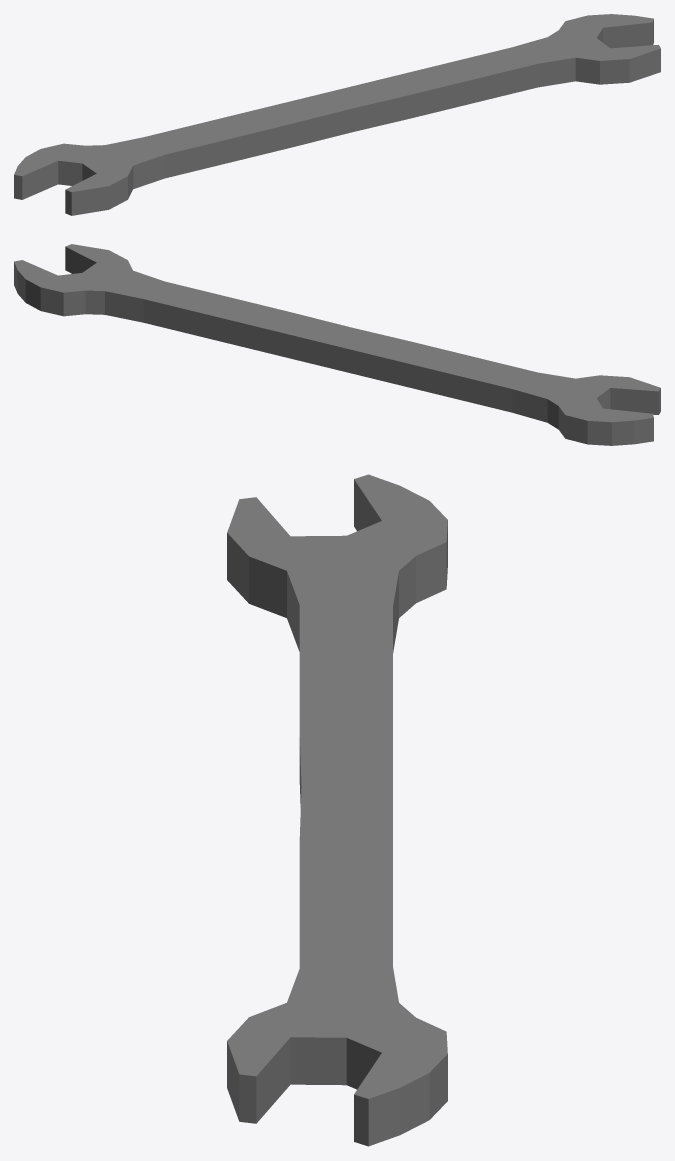
The model's file is Wrench 1.fbx.
The picture shows the model from 3 angles, top to bottom: view 1: azimuth 30°, elevation 25°; view 2: azimuth 150°, elevation 25°; view 3: azimuth 270°, elevation 25°; orthographic projection. The views are drawn at different scales.
Visible parts, largest first — view 1: Wrench_Model; view 2: Wrench_Model; view 3: Wrench_Model.
Part boxes in pixels (bbox=[...]): Wrench_Model: bbox=[14, 14, 660, 215]; Wrench_Model: bbox=[14, 244, 660, 445]; Wrench_Model: bbox=[227, 474, 447, 1146].
Size of the model in its own units: 104 by 3.67 by 15.48.
